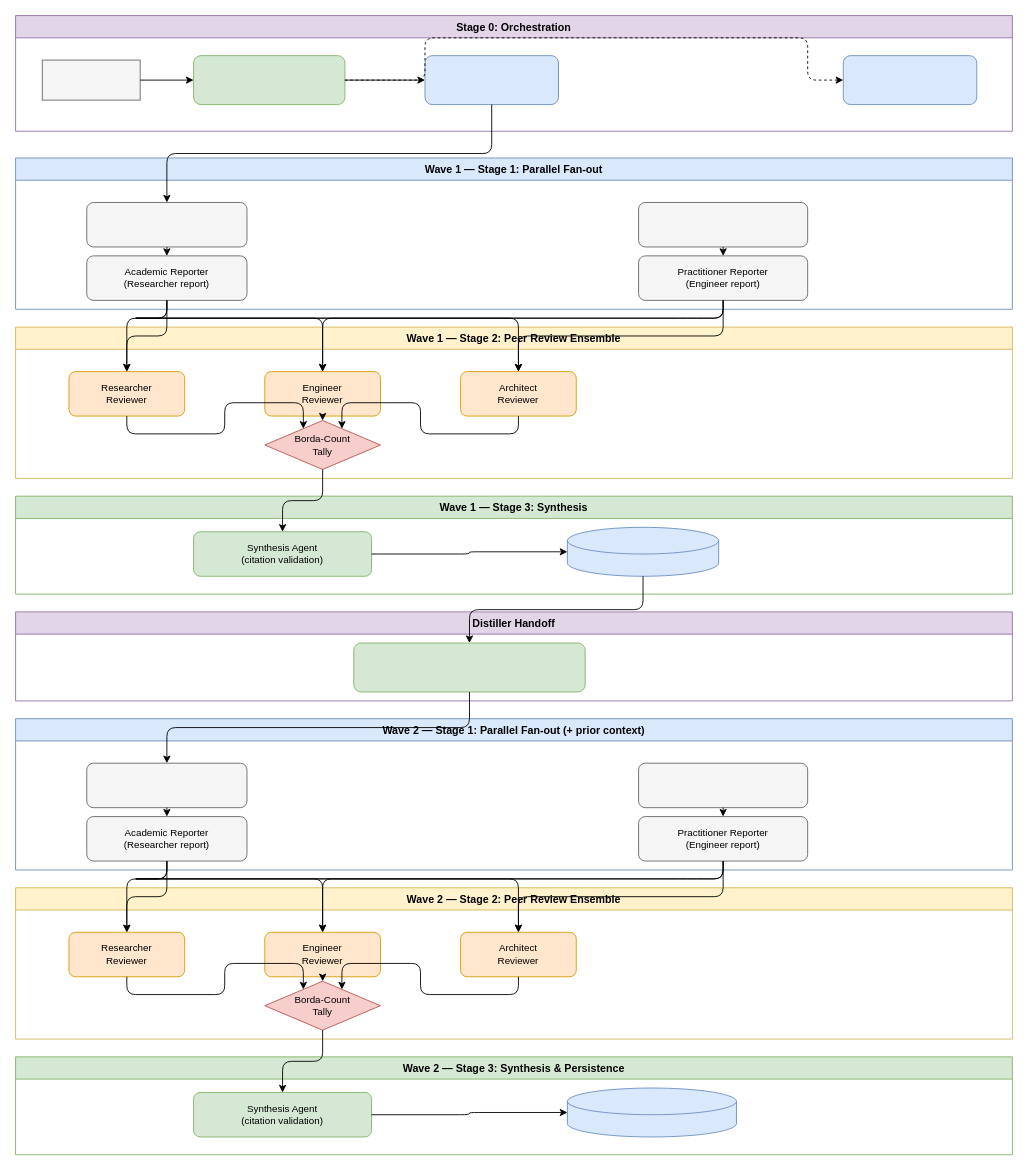
This 1028x1170 diagram has some shape labels left out. The shapes that lost their labels are listed below. From the top down, each one's centre as x and y in pixels, then its label:
At point 90,79: "topics.yaml".
At point 269,80: "Planner Agent (Wave 1 / Wave 2 split)".
At point 491,80: "Wave 1 (parallel topics)".
At point 909,80: "Wave 2 (sequential topics)".
At point 166,224: "Academic Explorer (ArXiv, OpenAlex, Tavily)".
At point 723,224: "Practitioner Explorer (GitHub, Tavily Eng)".
At point 642,551: "Wave 1 Results (topic files)".
At point 469,667: "Distiller Agent (summarizes Wave 1 for Wave 2 context)".
At point 166,785: "Academic Explorer (+ Wave 1 context)".
At point 723,785: "Practitioner Explorer (+ Wave 1 context)".
At point 651,1112: "OKF Bundle (index.md + all topic files)".
